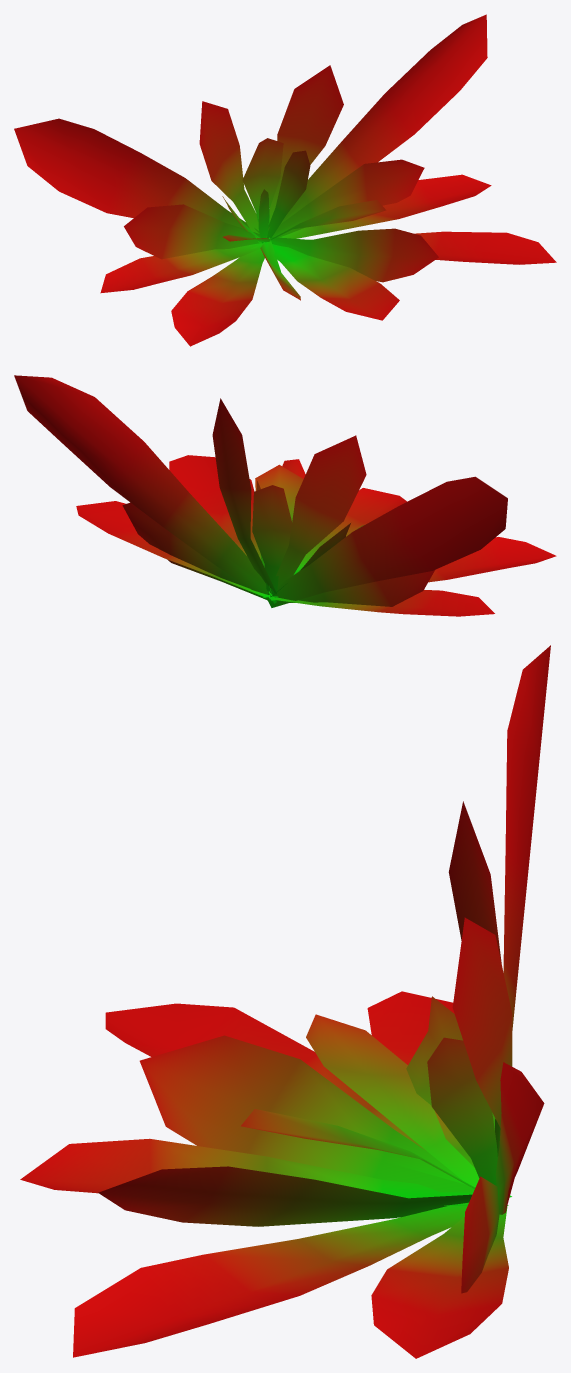
The model's file is Var11_LOD1.fbx.
The picture shows the model from 3 angles, top to bottom: view 1: azimuth 30°, elevation 25°; view 2: azimuth 150°, elevation 25°; view 3: azimuth 270°, elevation 25°; orthographic projection. The views are drawn at different scales.
Parts seen in each view (by area): view 1: _76t8_Var11_LOD1; view 2: _76t8_Var11_LOD1; view 3: _76t8_Var11_LOD1.
Part boxes in pixels (box(x1,y1,x2,y2)): _76t8_Var11_LOD1: box(14, 14, 556, 346); _76t8_Var11_LOD1: box(14, 375, 556, 616); _76t8_Var11_LOD1: box(20, 645, 550, 1358).
Bounding box in the file's own units: 25.3 × 9.27 × 12.35.
